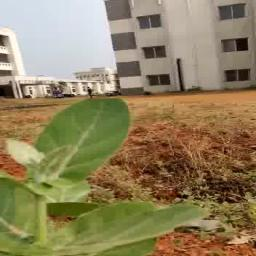Calotropis: (0, 98, 175, 256)
